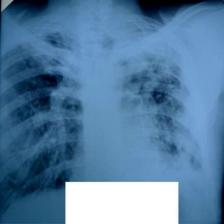tuberculosis: (0, 1, 205, 222)
